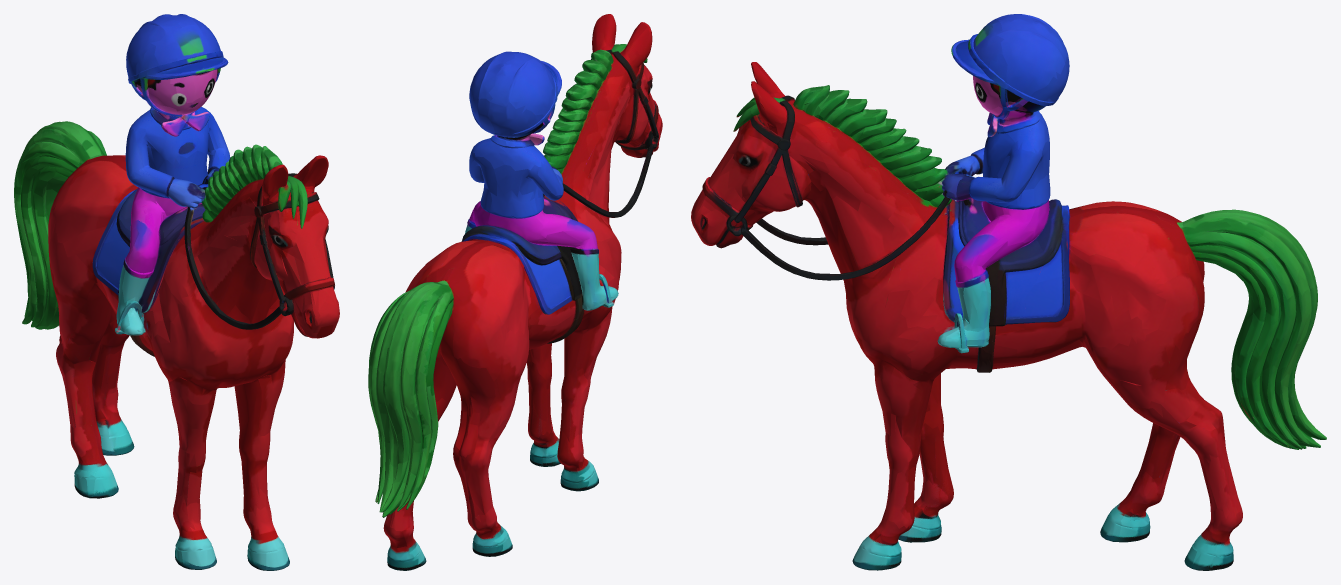
File: meshy-esguio-folhas.glb
The picture shows the model from 3 angles, left to right: view 1: azimuth 30°, elevation 25°; view 2: azimuth 150°, elevation 25°; view 3: azimuth 270°, elevation 25°; orthographic projection. The views are drawn at different scales.
Size of the model in its own units: 0.6172 by 1.74 by 1.9.
1 material, 1 textured.
